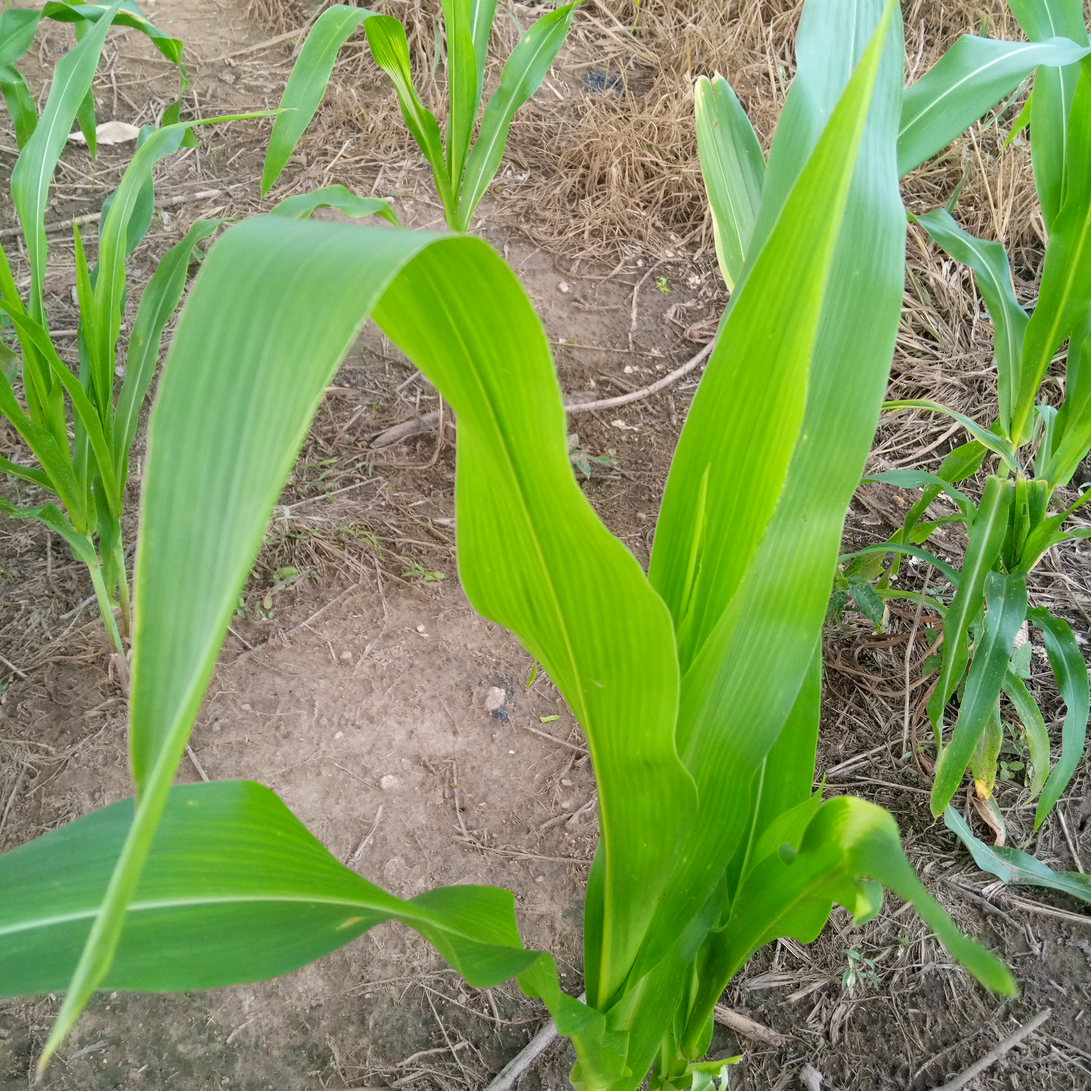healthy: (654, 519, 823, 929), (719, 364, 862, 481), (473, 324, 528, 556)
